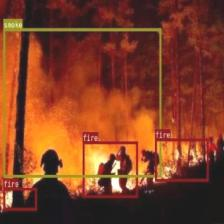fire: (82, 141, 138, 197), (155, 138, 208, 181), (3, 187, 37, 210)
smoke: (3, 28, 161, 177)
